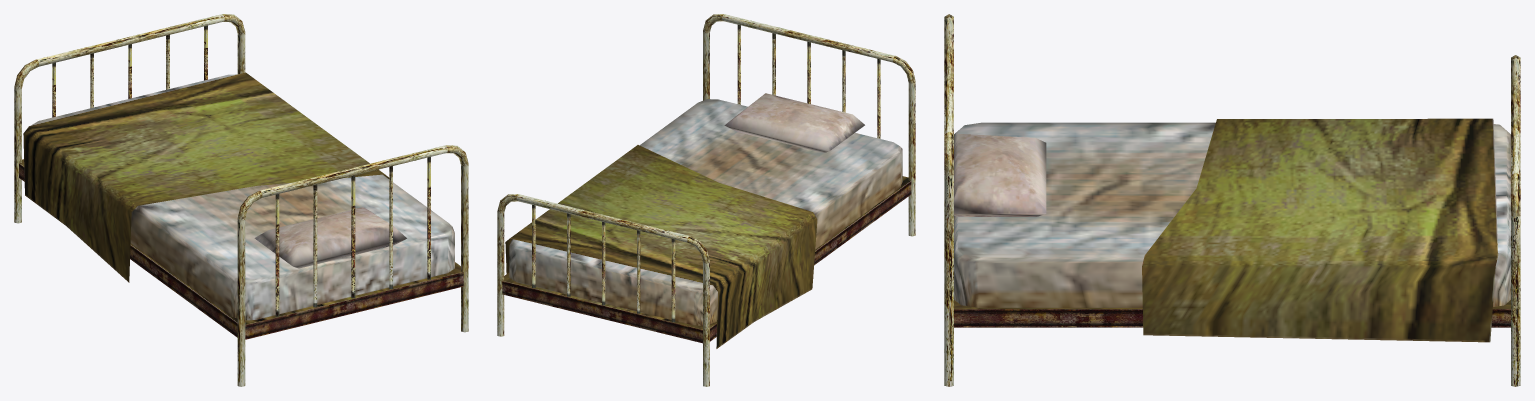
The model's file is rusty_bed.fbx.
The picture shows the model from 3 angles, left to right: view 1: azimuth 30°, elevation 25°; view 2: azimuth 150°, elevation 25°; view 3: azimuth 270°, elevation 25°; orthographic projection. The views are drawn at different scales.
Parts seen in each view (by area): view 1: mesh_0; view 2: mesh_0; view 3: mesh_0.
Boxes of the visible parts, <box> form: mesh_0: <box>14,14,468,386</box>; mesh_0: <box>497,14,915,386</box>; mesh_0: <box>944,14,1520,386</box>.
Size of the model in its own units: 122 by 95.75 by 207.
1 material, 1 textured.
